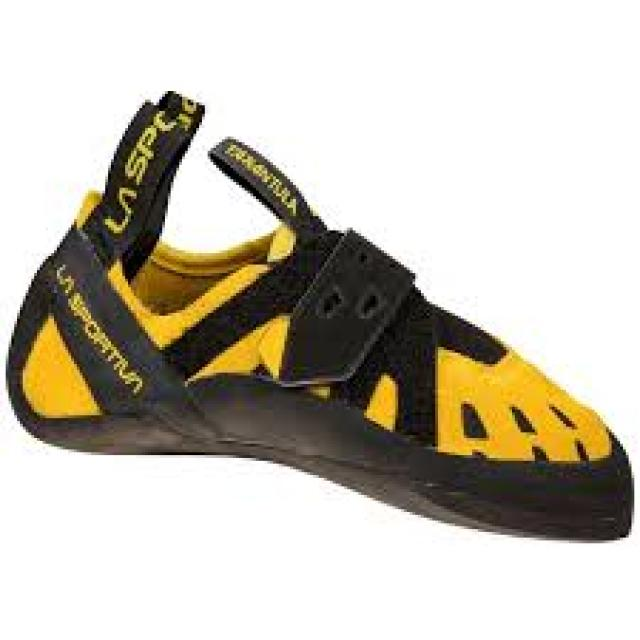climbing-shoes: (6, 94, 634, 542)
